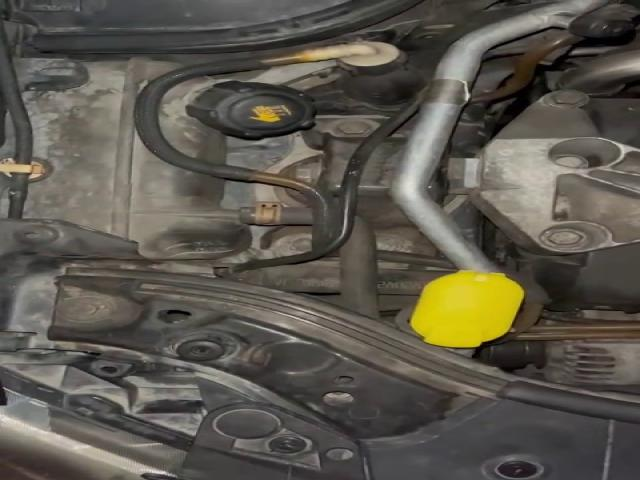antifreeze_tank: (22, 58, 247, 259), (159, 77, 314, 163)
